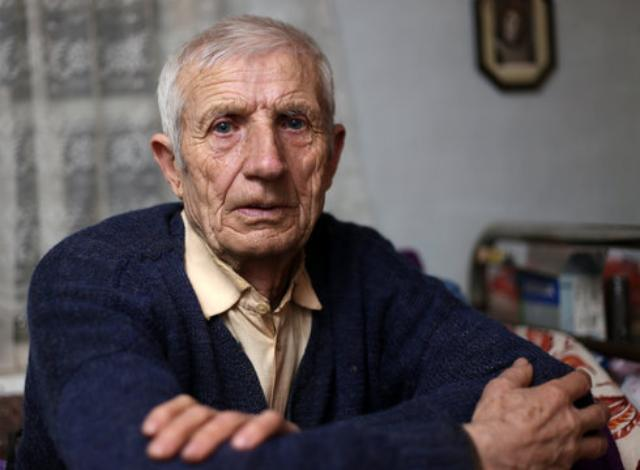chin: (213, 216, 243, 240), (268, 222, 292, 240)
crows_feet: (307, 114, 323, 144), (191, 124, 207, 148)
forehead: (200, 69, 232, 95), (280, 87, 306, 100)
frown_line: (248, 96, 272, 118)
gummy_smile: (217, 166, 243, 202), (285, 171, 301, 201)
masseter: (184, 190, 198, 226), (306, 177, 316, 212)
